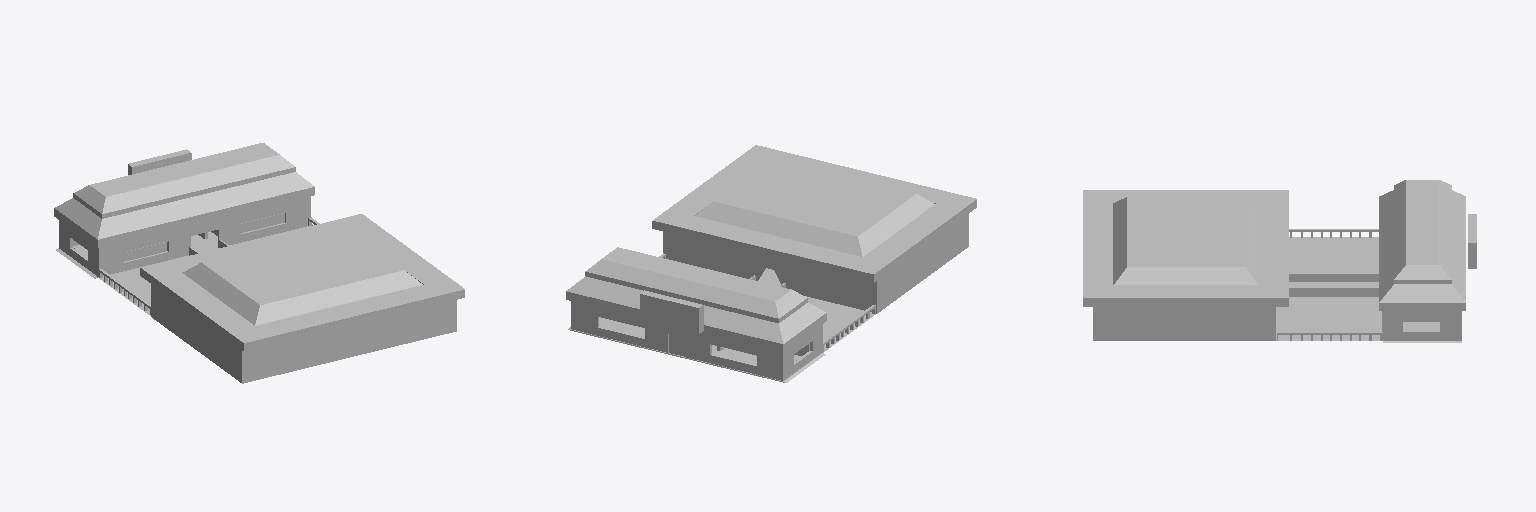
The model's file is gymRoof.obj.
The picture shows the model from 3 angles: view 1: azimuth 30°, elevation 25°; view 2: azimuth 150°, elevation 25°; view 3: azimuth 270°, elevation 25°; orthographic projection.
Visible parts, largest first — view 1: GymRoof_Cube.024, entryRoof_Cube.025, walls_Cube.004, entryWalls_Cube.021, grass_Plane.002, Cube_Cube.023, sign_Cube.026, entryFloor_Plane.001, fence_Cube.018; view 2: GymRoof_Cube.024, entryRoof_Cube.025, walls_Cube.004, entryWalls_Cube.021, sign_Cube.026, entryFloor_Plane.001, grass_Plane.002; view 3: GymRoof_Cube.024, entryRoof_Cube.025, grass_Plane.002, walls_Cube.004, entryWalls_Cube.021, walkWay_Cube.017, fence_Cube.018, walkWayFloor_Plane.
Boxes of the visible parts, x1,y1,x2,y2 form: GymRoof_Cube.024: [140, 214, 464, 351]; entryRoof_Cube.025: [54, 143, 314, 247]; walls_Cube.004: [151, 284, 456, 383]; entryWalls_Cube.021: [59, 196, 310, 276]; grass_Plane.002: [98, 226, 308, 315]; Cube_Cube.023: [124, 213, 284, 261]; sign_Cube.026: [128, 149, 191, 174]; entryFloor_Plane.001: [56, 224, 312, 278]; fence_Cube.018: [98, 217, 319, 314]; GymRoof_Cube.024: [652, 145, 976, 282]; entryRoof_Cube.025: [566, 247, 826, 352]; walls_Cube.004: [663, 214, 968, 313]; entryWalls_Cube.021: [571, 301, 822, 380]; sign_Cube.026: [640, 290, 703, 333]; entryFloor_Plane.001: [568, 317, 825, 382]; grass_Plane.002: [805, 296, 875, 352]; GymRoof_Cube.024: [1083, 190, 1288, 306]; entryRoof_Cube.025: [1379, 180, 1465, 310]; grass_Plane.002: [1276, 237, 1381, 340]; walls_Cube.004: [1093, 307, 1275, 340]; entryWalls_Cube.021: [1382, 311, 1461, 340]; walkWay_Cube.017: [1289, 273, 1378, 296]; fence_Cube.018: [1277, 229, 1382, 340]; walkWayFloor_Plane: [1289, 282, 1378, 287].
Bounding box in the file's own units: 56.31 × 16.47 × 86.87.